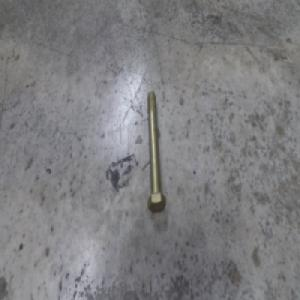Bolt: (144, 90, 166, 212)
